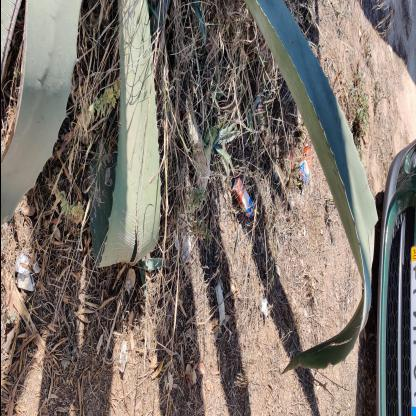karton: (232, 179, 254, 219), (298, 144, 314, 186)
